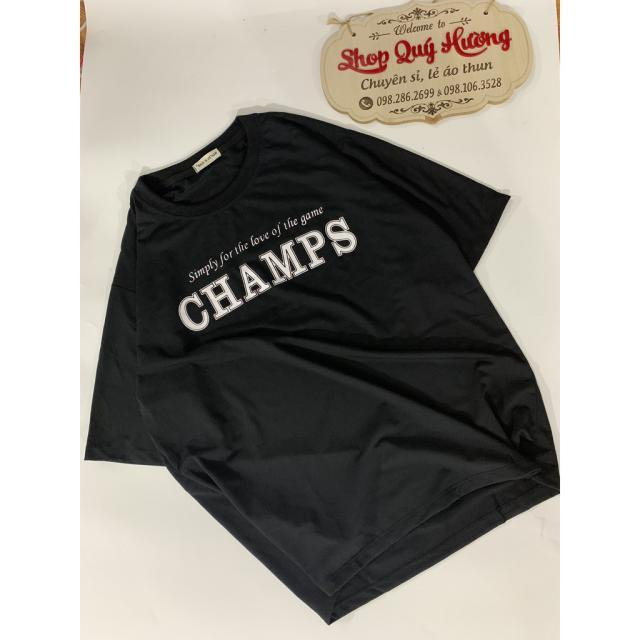Shirt: (78, 108, 560, 629)
